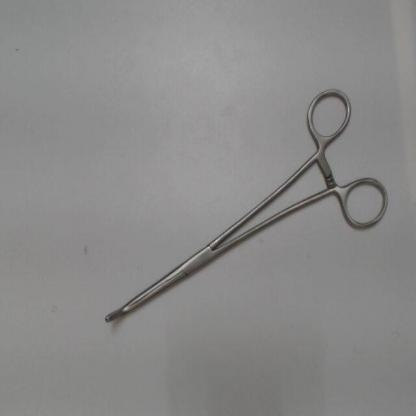Lahey Forceps: (93, 69, 392, 339)
